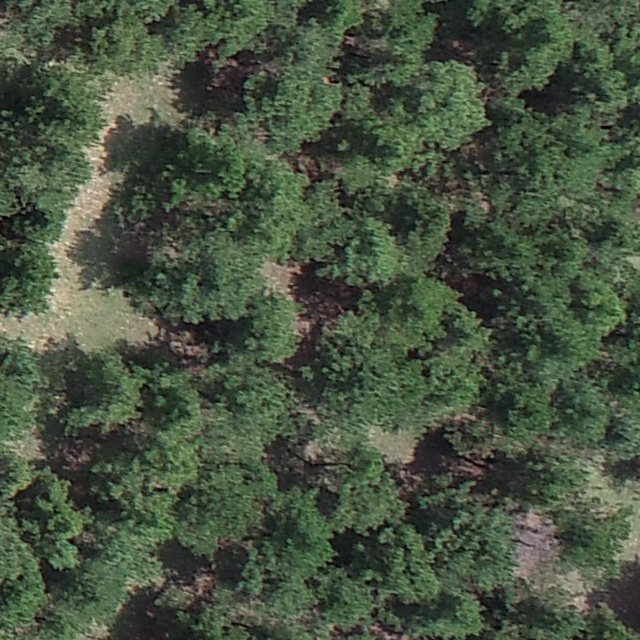unhealthy: (511, 507, 559, 577)
